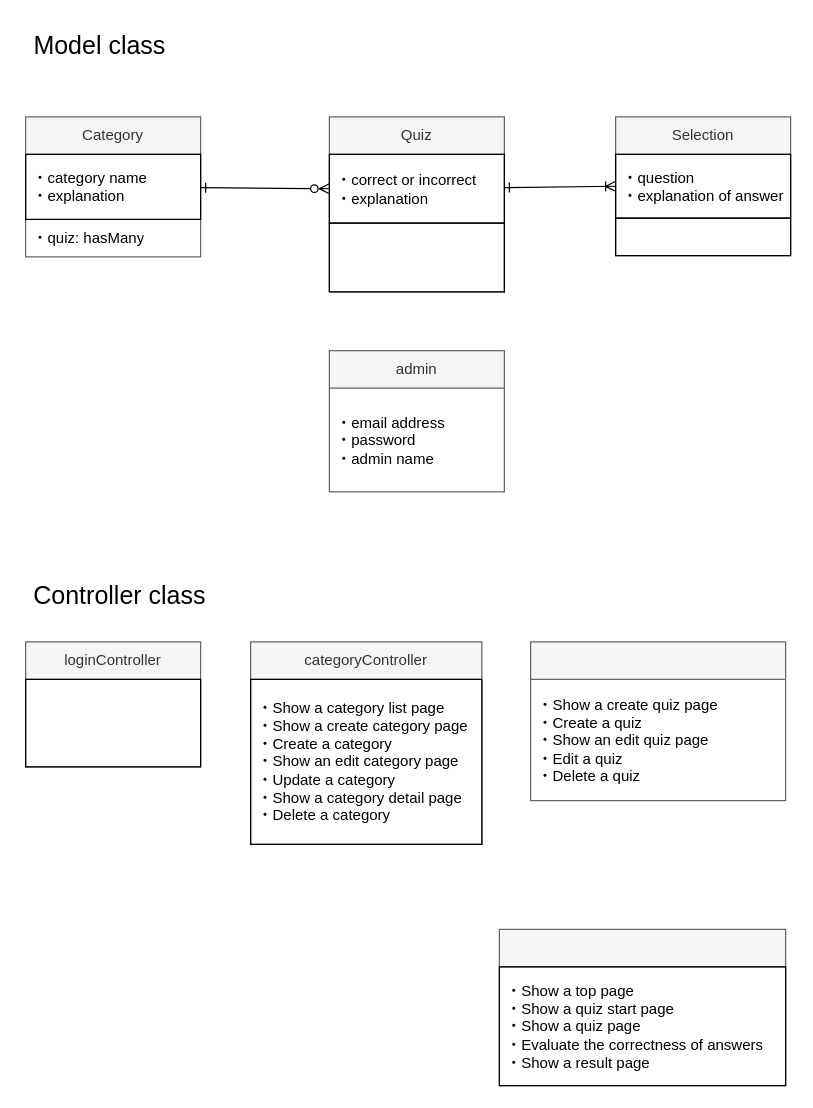
Image size: 813x1108. Some labels were removed from this diagram. Here are the shapes that lost their labels. From the top down, the box of each, then its label:
(614, 217, 791, 256): ・quiz: belongsTo
(328, 222, 504, 292): ・selection: hasMany ・category: belongsTo
(24, 678, 201, 767): ・Login process ・Logout process ・Show a login page
(529, 641, 786, 801): quizController
(498, 928, 786, 1086): playController
